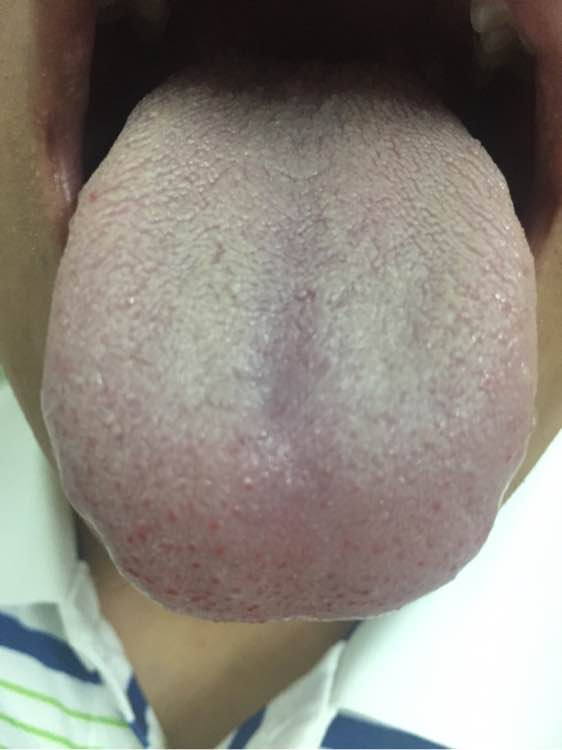baitaishe: (41, 50, 539, 624)
hongdianshe: (188, 558, 203, 571), (125, 533, 136, 546)
